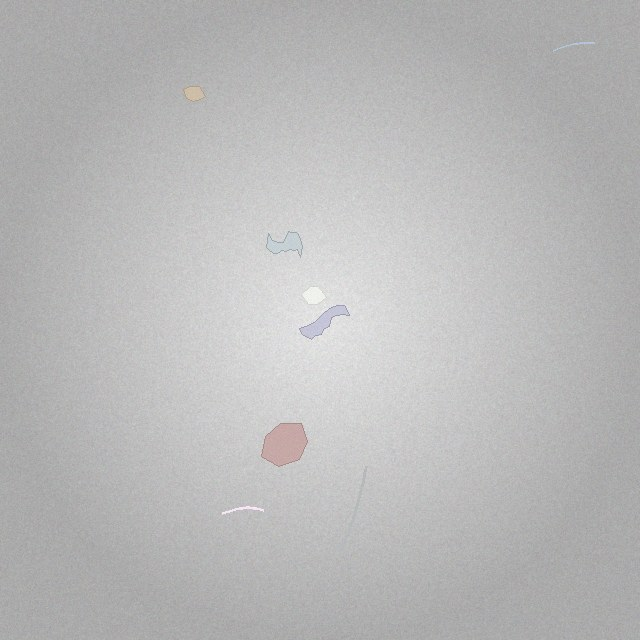fiber: (336, 463, 370, 559), (219, 504, 268, 518), (551, 41, 597, 54)
film: (300, 305, 349, 339), (266, 232, 302, 257)
fragment: (261, 424, 307, 466), (302, 286, 326, 305), (183, 86, 206, 102)
